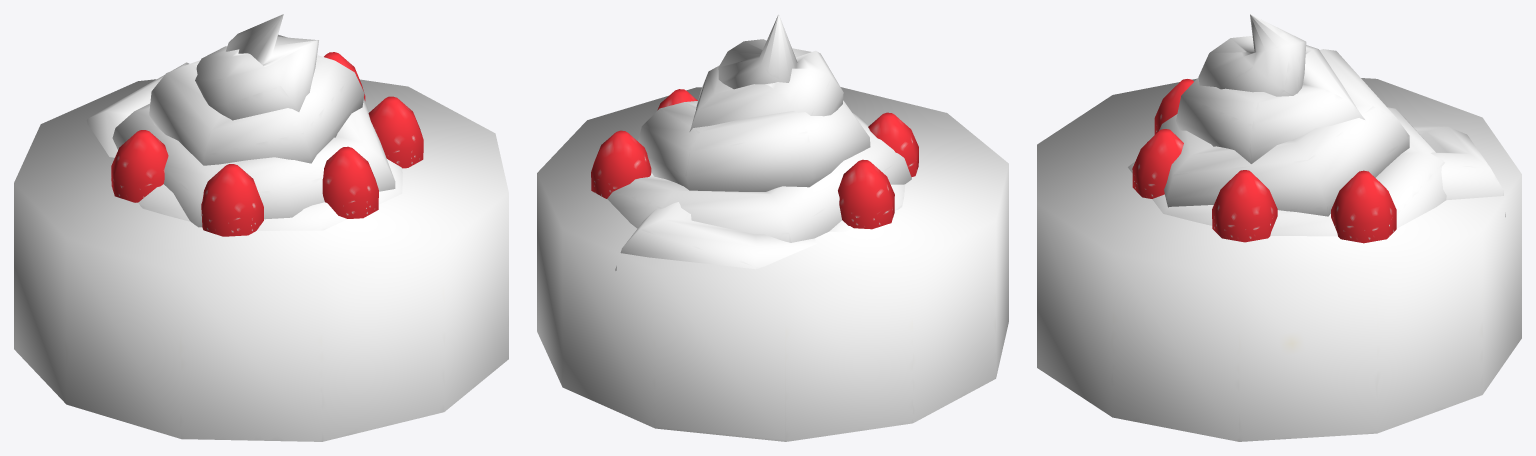
Rendered from Cake.fbx.
3 renders of one model, left to right at view 1: azimuth 30°, elevation 25°; view 2: azimuth 150°, elevation 25°; view 3: azimuth 270°, elevation 25°, orthographic. The views are drawn at different scales.
Visible parts, largest first — view 1: Cake1; view 2: Cake1; view 3: Cake1.
Boxes of the visible parts, x1,y1,x2,y2 form: Cake1: (14,14,508,441); Cake1: (537,14,1008,441); Cake1: (1037,14,1521,441).
Bounding box in the file's own units: 66.72 × 49.38 × 66.04.
